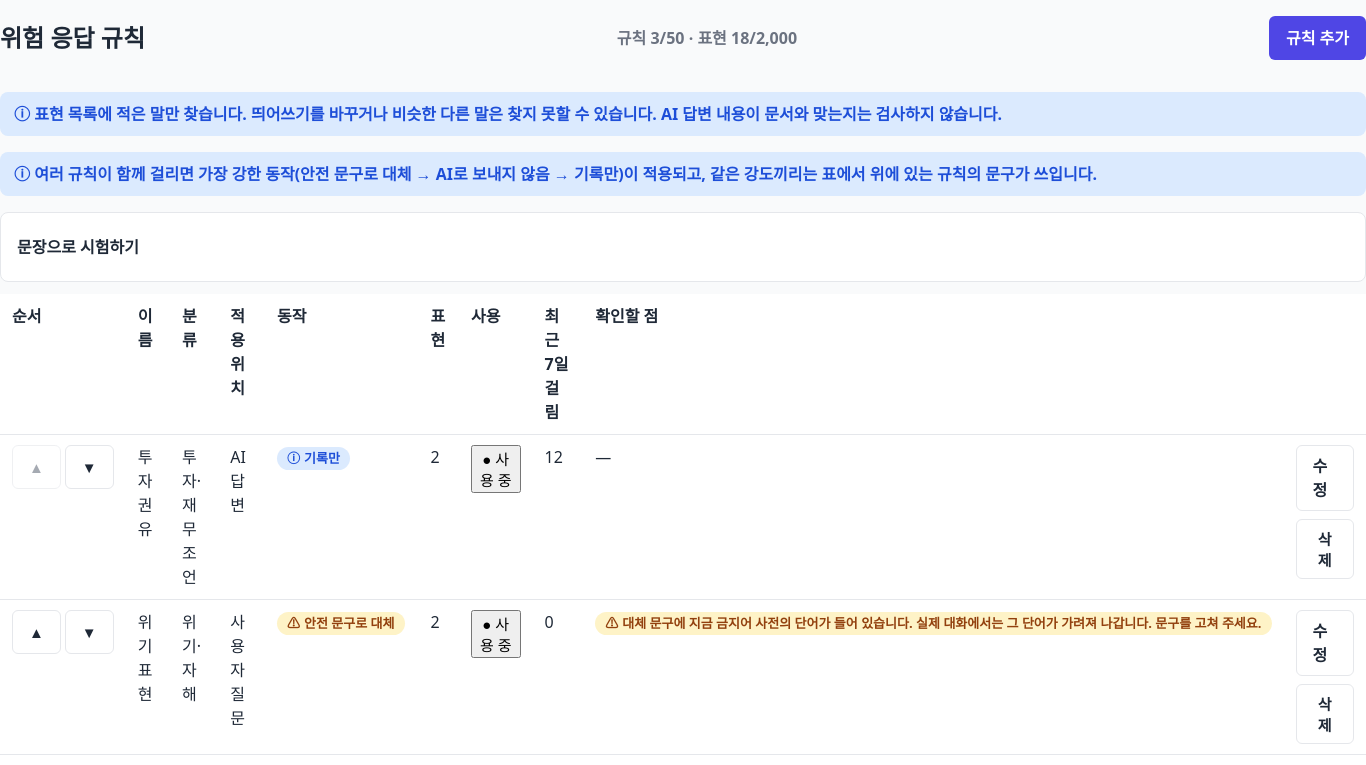
Scenario: 안전 가드레일 화면 — axe 접근성 스캔 › GR-1 삭제 확인 대화상자에 위반이 없다
The width and height of the screenshot is (1366, 765).
Click the button with aria-label "‘투자 권유’ 규칙 삭제".
click(1325, 549)  # box [1296,519,1354,579]
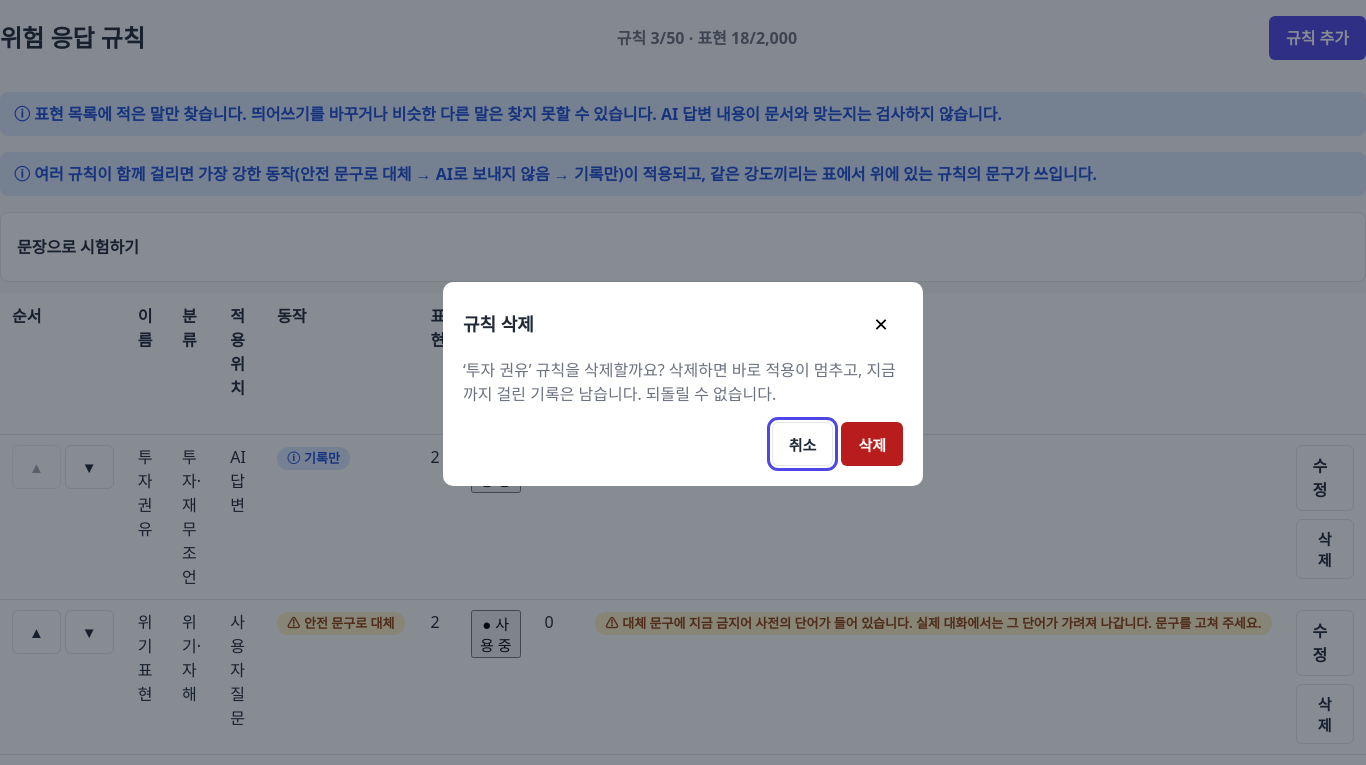
Check: the dialog "규칙 삭제" is shown, box [443,282,923,486]
